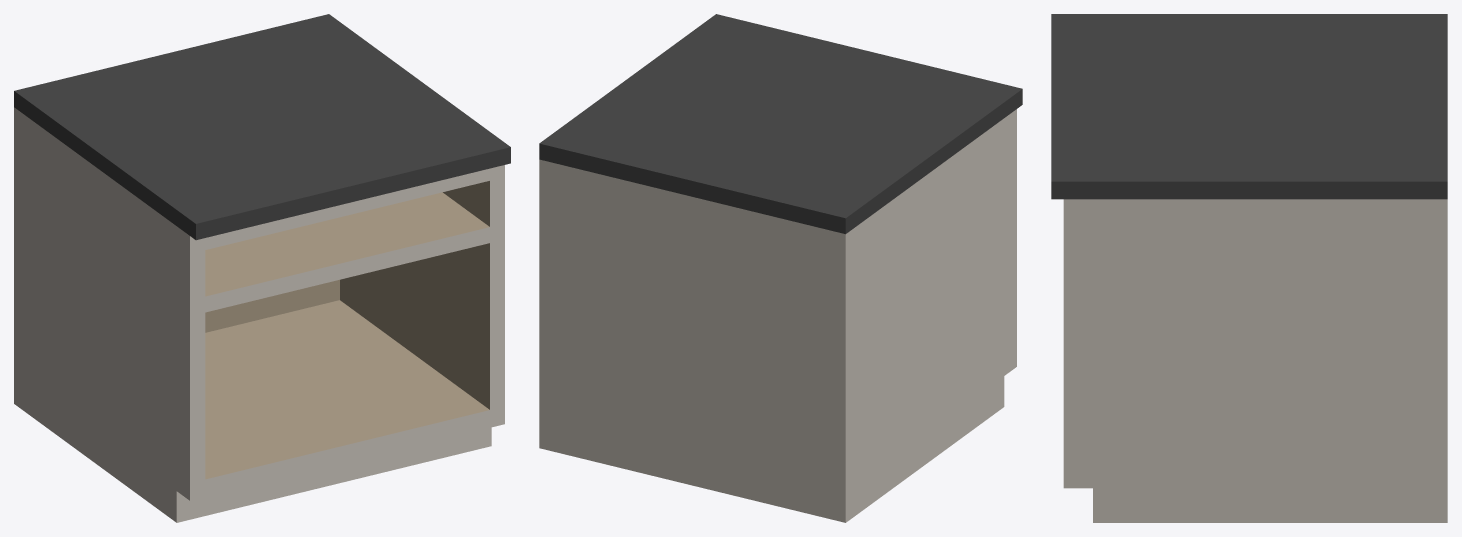
Rendered from SM_Prop_Kitchen_Counter_01.obj.
3 views of the same model, side by side, from view 1: azimuth 30°, elevation 25°; view 2: azimuth 150°, elevation 25°; view 3: azimuth 270°, elevation 25° (orthographic). The views are drawn at different scales.
Visible parts, largest first — view 1: SM_Prop_Kitchen_Counter_01_0; view 2: SM_Prop_Kitchen_Counter_01_0; view 3: SM_Prop_Kitchen_Counter_01_0.
Boxes of the visible parts, x1,y1,x2,y2 form: SM_Prop_Kitchen_Counter_01_0: (14, 14, 510, 522); SM_Prop_Kitchen_Counter_01_0: (539, 14, 1022, 522); SM_Prop_Kitchen_Counter_01_0: (1051, 14, 1447, 522).
Size of the model in its own units: 1 by 0.9496 by 1.
Materials: 1 (1 with a texture image).
